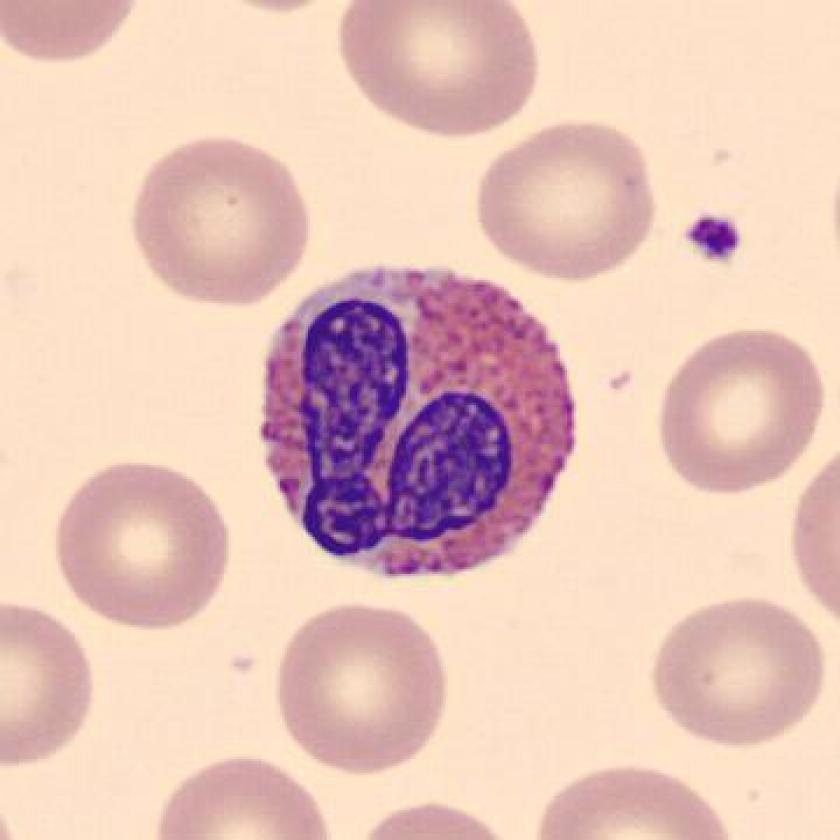eosinophil: (244, 246, 594, 589)
